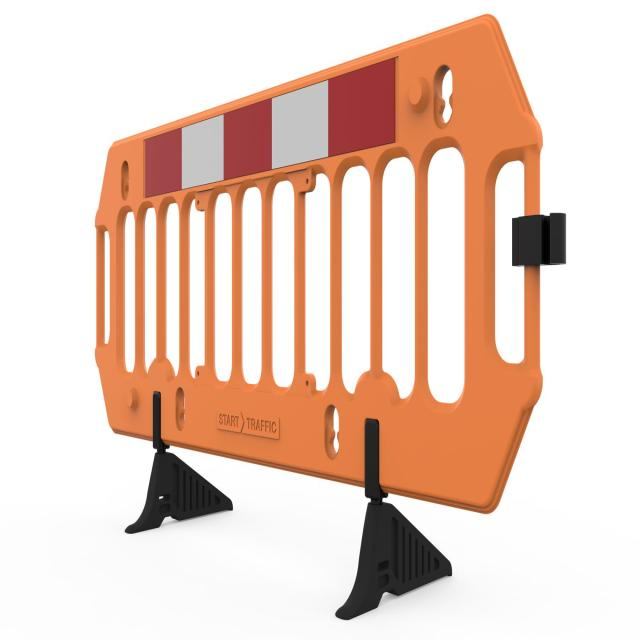cone: (93, 12, 566, 618)
